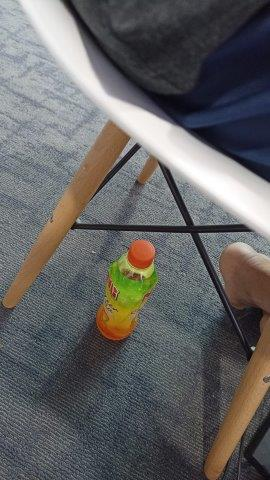botolplastik: (96, 240, 158, 340)
